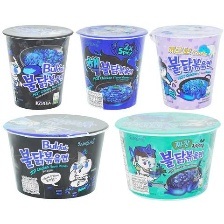paper_cup: (109, 108, 223, 202), (0, 109, 110, 203), (145, 20, 224, 111), (72, 19, 150, 111), (0, 18, 75, 112)
